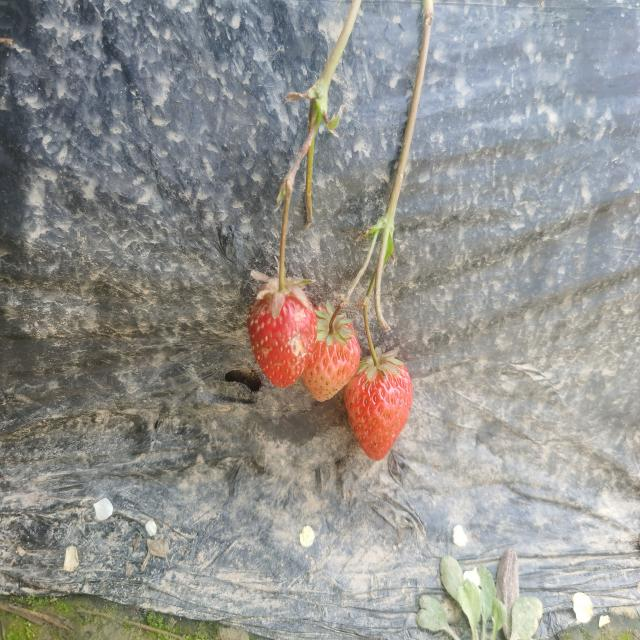stem: (364, 322, 379, 366), (327, 301, 344, 333), (278, 236, 287, 294)
strawberry: (247, 278, 318, 388), (344, 355, 413, 460), (300, 306, 360, 402)
